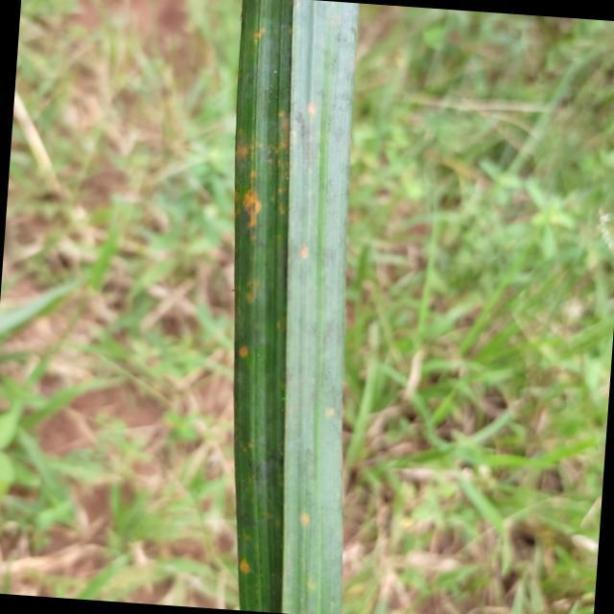Kalium: (227, 0, 361, 614)
